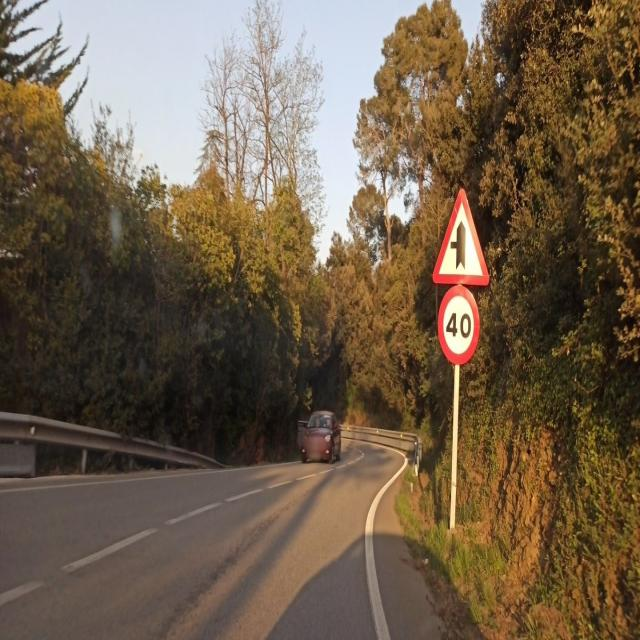car: (300, 410, 342, 463)
